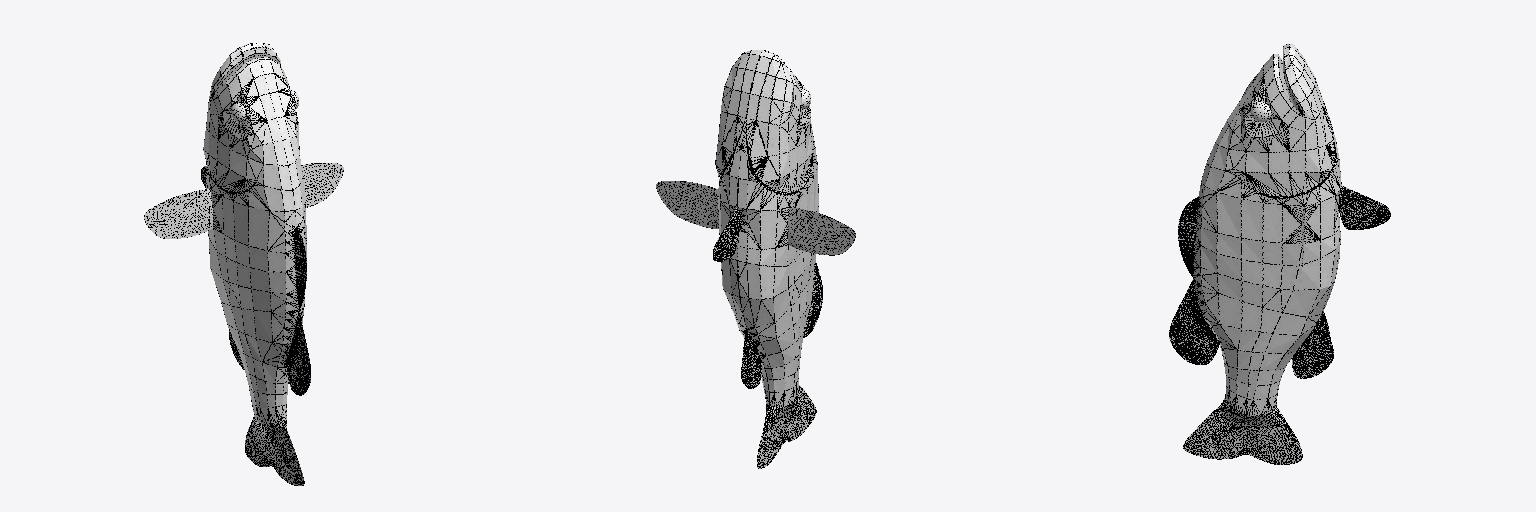
3 renders of one model, left to right at view 1: azimuth 30°, elevation 25°; view 2: azimuth 150°, elevation 25°; view 3: azimuth 270°, elevation 25°, orthographic.
Parts seen in each view (by area): view 1: blackbass; view 2: blackbass; view 3: blackbass.
Boxes of the visible parts, x1=… form: blackbass: x1=144, y1=43, x2=343, y2=485; blackbass: x1=656, y1=50, x2=855, y2=468; blackbass: x1=1169, y1=44, x2=1390, y2=464.
Bounding box in the file's own units: 59.26 × 119 × 57.03.
1 materials, 1 textured.